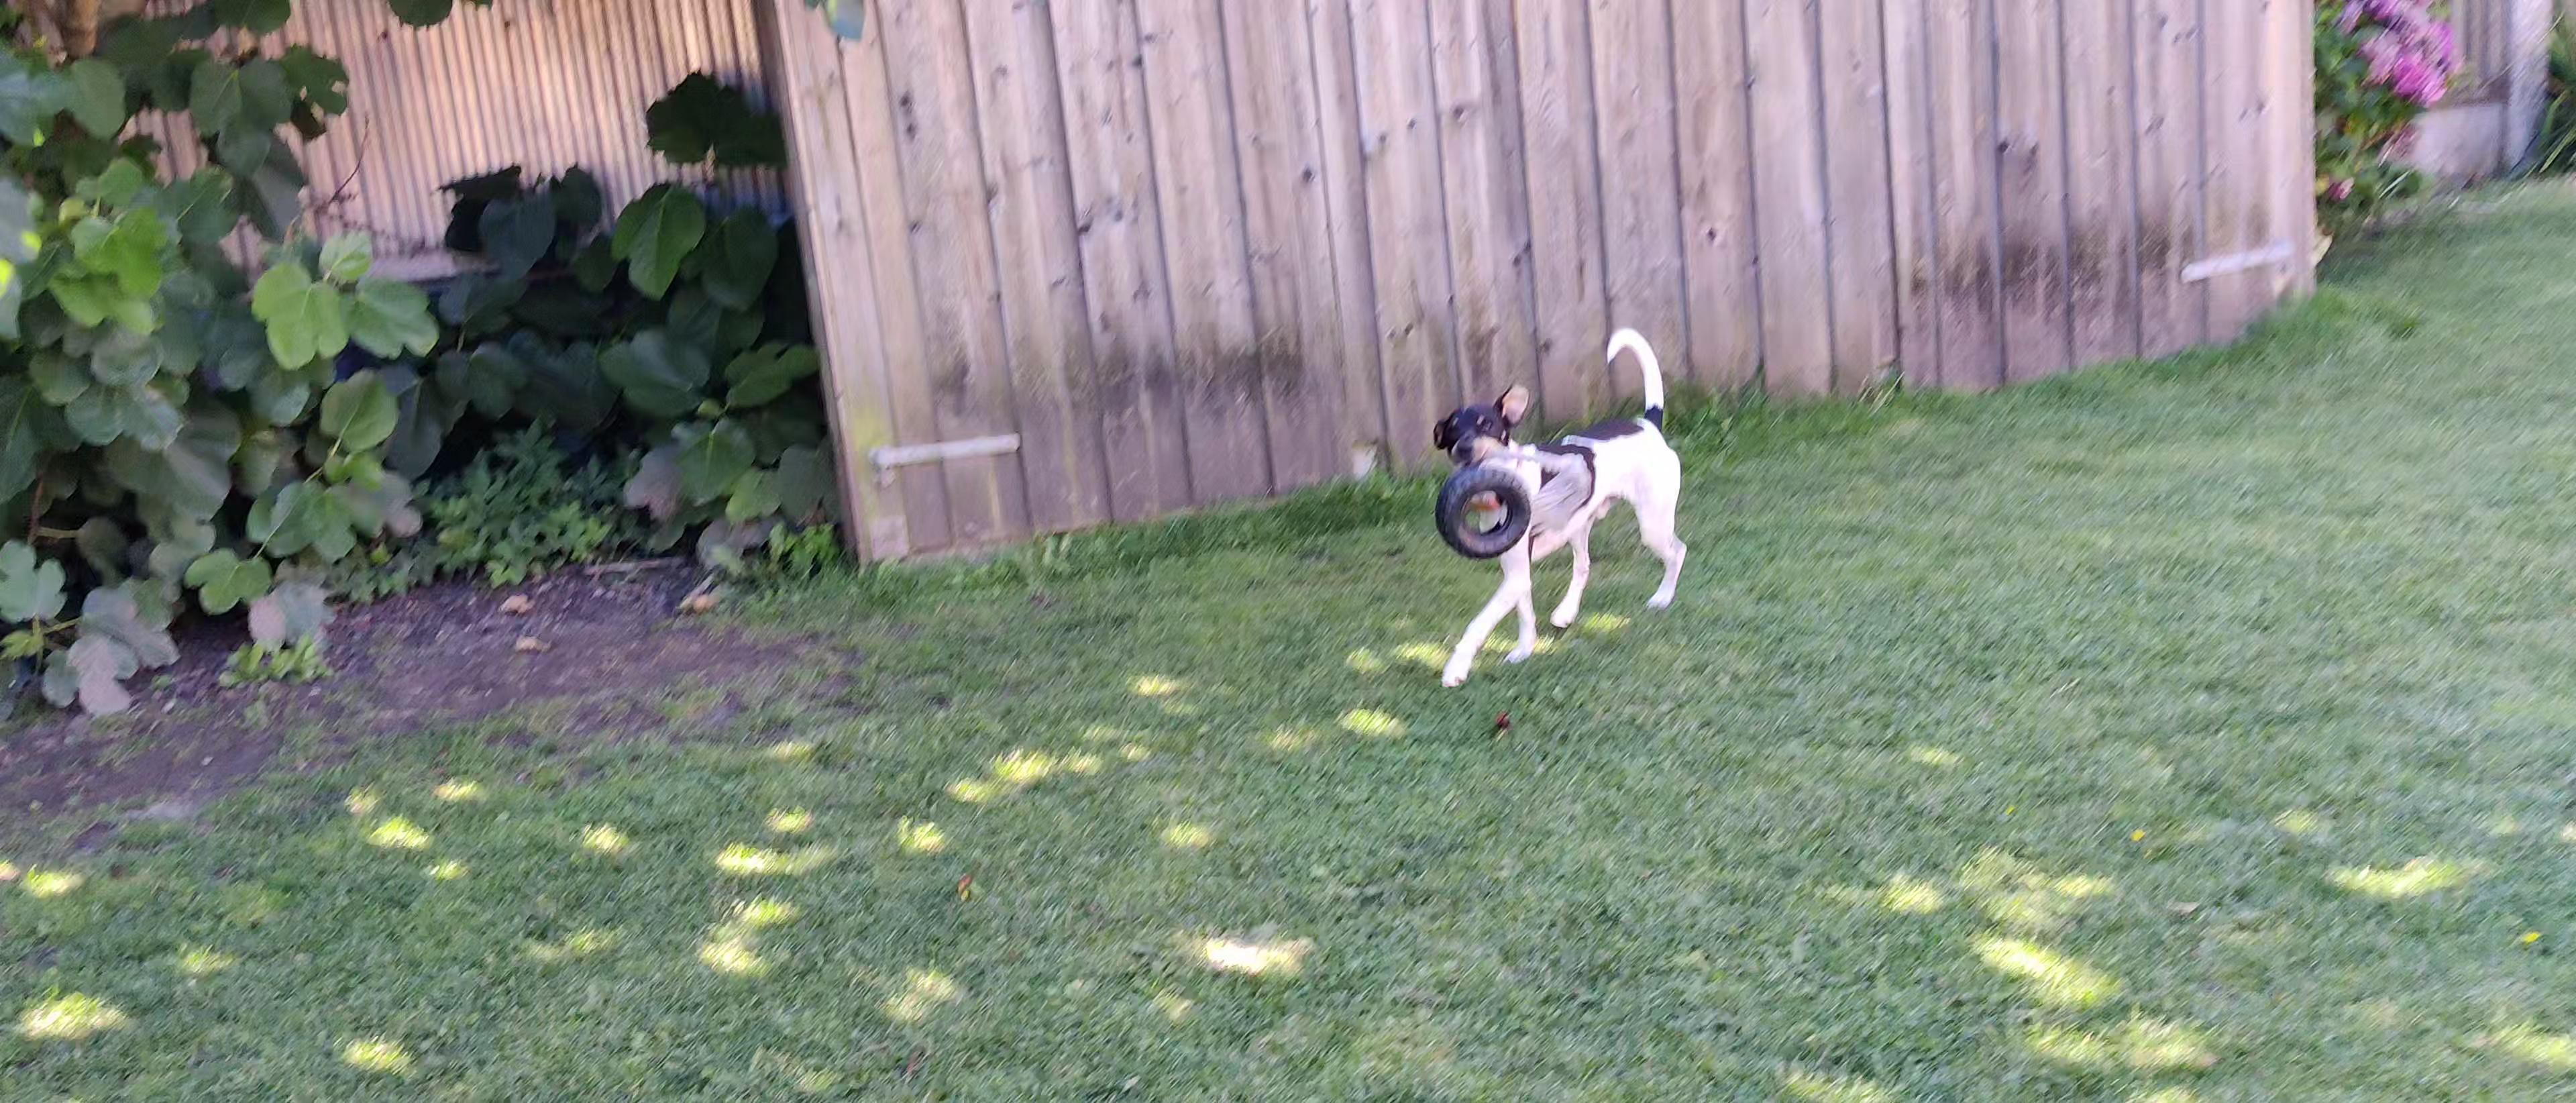Dog: (1429, 322, 1695, 694)
